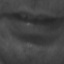MouthFatigue: (1, 7, 64, 45)
